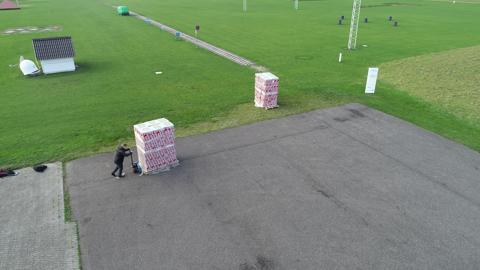RockwoolPallet: (134, 117, 182, 175)
